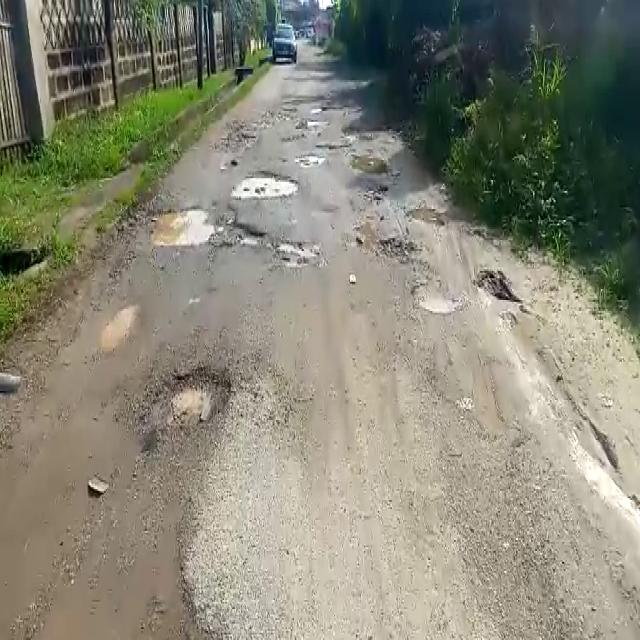Pothole: (158, 362, 234, 432), (152, 208, 256, 246), (229, 169, 300, 198), (411, 278, 457, 314), (271, 236, 326, 266), (294, 150, 328, 164)
